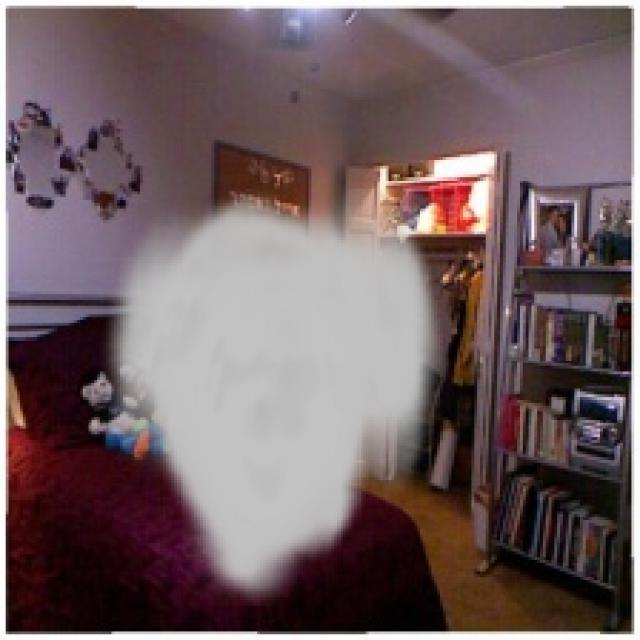smoke: (97, 188, 443, 606)
